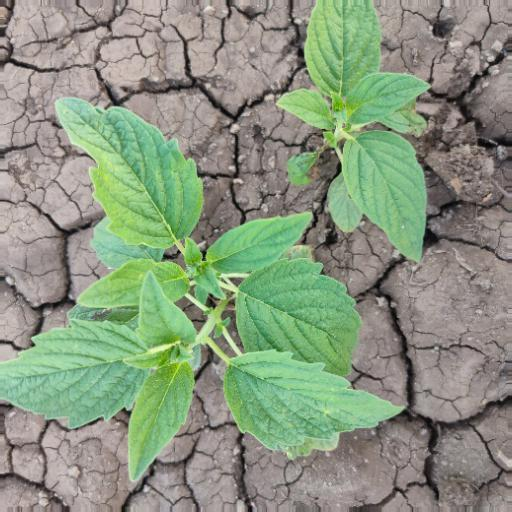crop: (1, 70, 405, 512), (259, 1, 512, 264)
